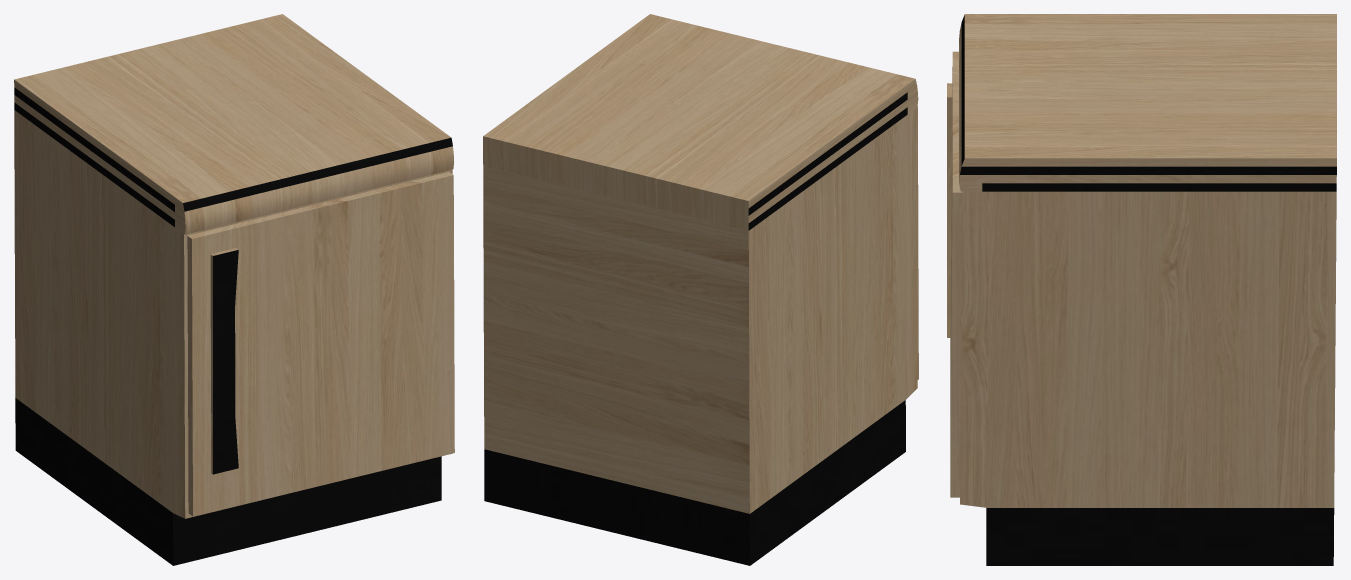
File: cabin.obj
3 views of the same model, side by side, from view 1: azimuth 30°, elevation 25°; view 2: azimuth 150°, elevation 25°; view 3: azimuth 270°, elevation 25° (orthographic). The views are drawn at different scales.
Visible parts, largest first — view 1: caninet_1; view 2: caninet_1; view 3: caninet_1.
Part boxes in pixels (left/top/right/bottom): caninet_1: left=14, top=14, right=454, bottom=565; caninet_1: left=483, top=14, right=918, bottom=565; caninet_1: left=947, top=14, right=1336, bottom=565.
Bounding box in the file's own units: 0.5474 × 0.7208 × 0.6249.
2 materials, 2 textured.
